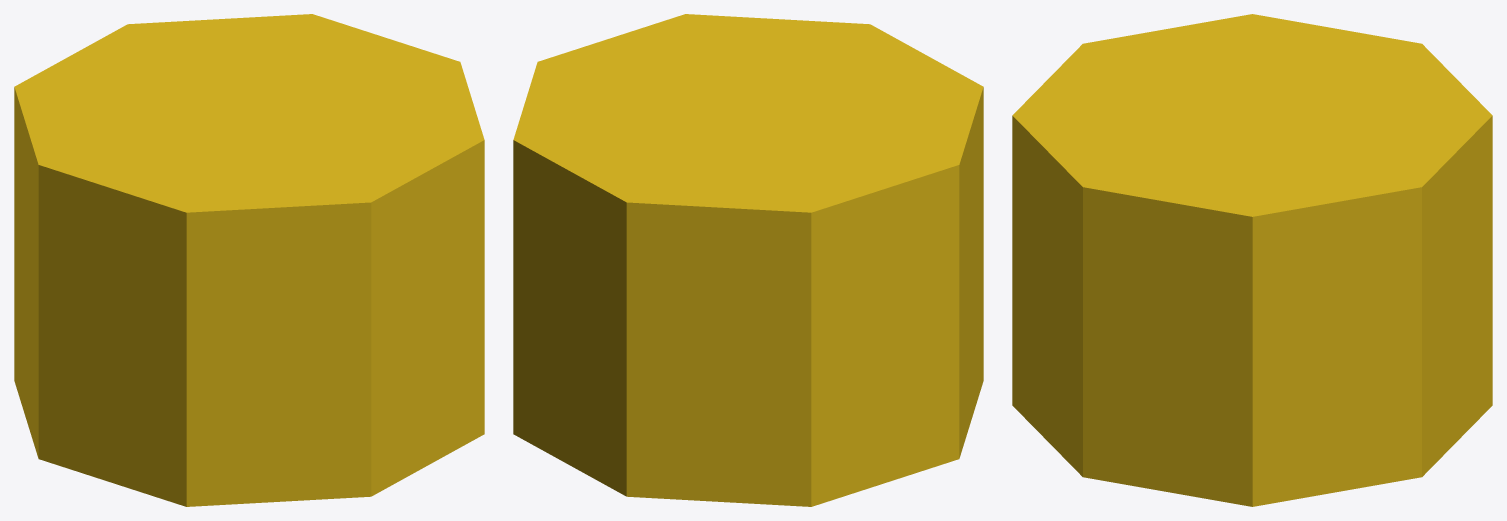
The model's file is icon_gold.obj.
The picture shows the model from 3 angles, left to right: view 1: azimuth 30°, elevation 25°; view 2: azimuth 150°, elevation 25°; view 3: azimuth 270°, elevation 25°; orthographic projection.
Size of the model in its own units: 0.12 by 0.08 by 0.12.
